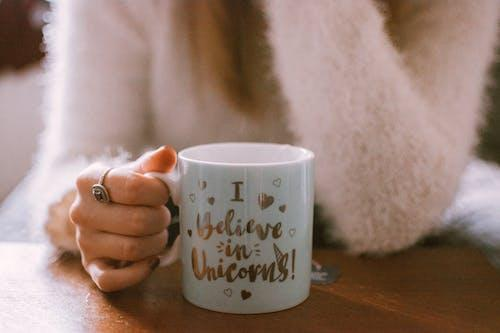Mug: (135, 120, 350, 314)
